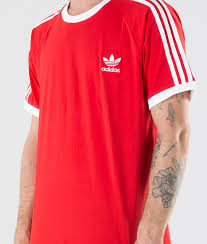adidas: (101, 53, 123, 73)
